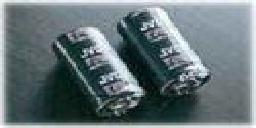Electrolytic Capacitor: (44, 26, 140, 128), (116, 5, 214, 101)
